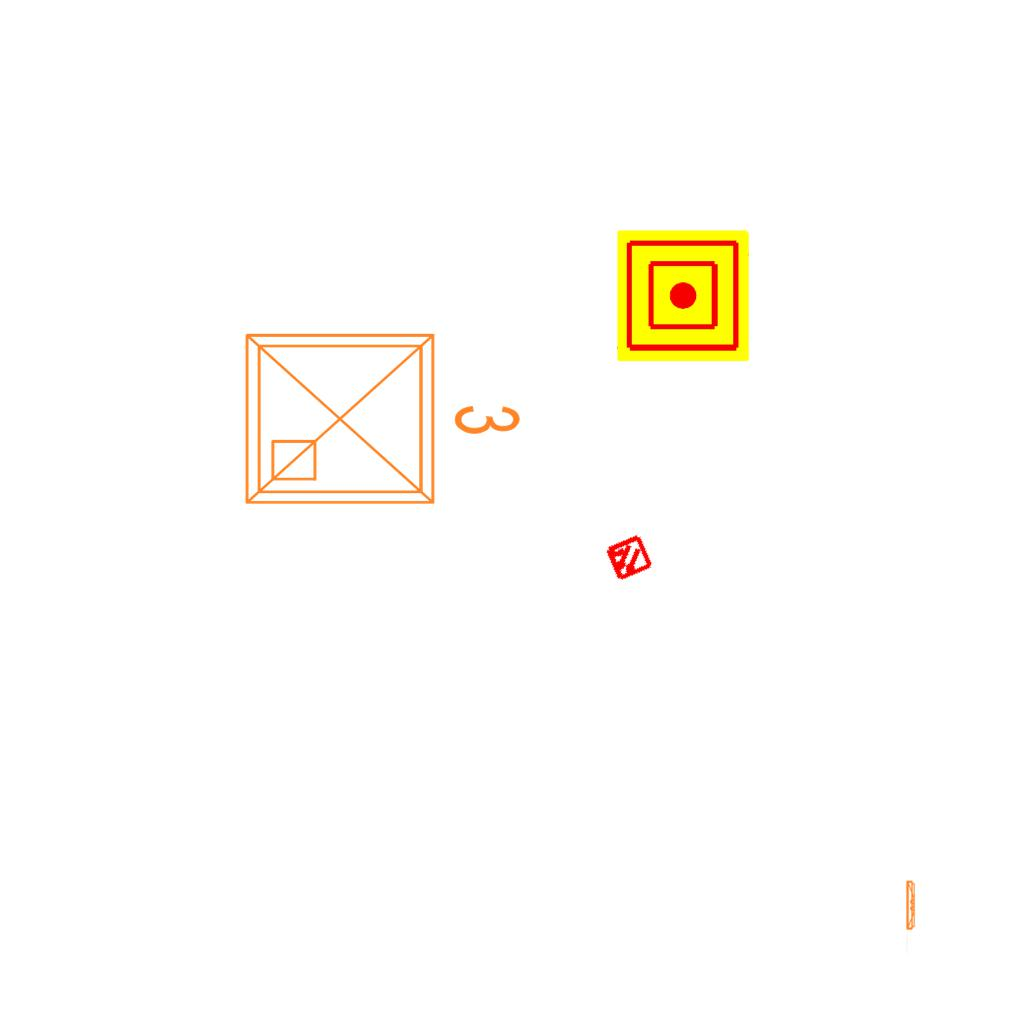Einbaudownlights_LED_Konferenzraeume: (231, 311, 531, 519)
NAM-Nichtautomatischer_Melder: (617, 230, 749, 362)
OT_Multisensormelder_(Kombination_RMO_WMD): (591, 521, 665, 595)
Sicherheitsleuchte_Wandeinbau: (905, 878, 917, 957)
